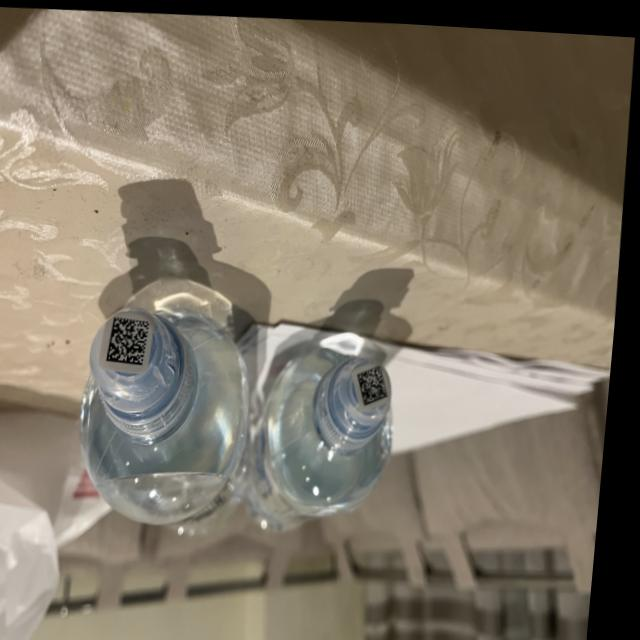datamatrix: (111, 314, 156, 364), (361, 358, 397, 403)
